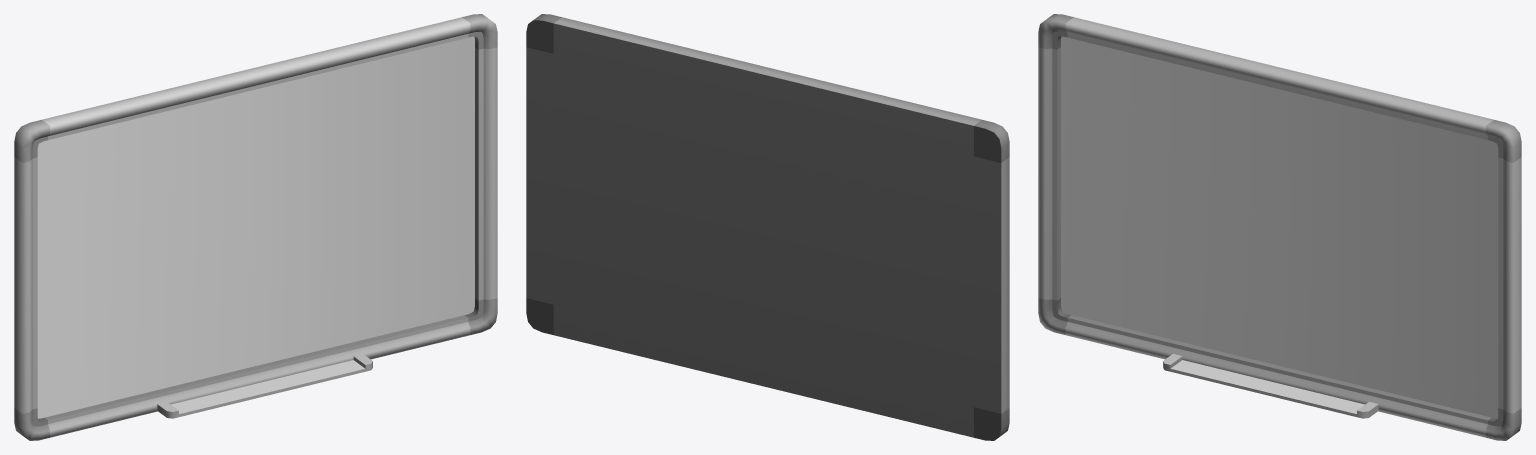
File: CR_sci_Board_001.FBX
The picture shows the model from 3 angles, left to right: view 1: azimuth 30°, elevation 25°; view 2: azimuth 150°, elevation 25°; view 3: azimuth 330°, elevation 25°; orthographic projection.
Visible parts, largest first — view 1: CR_sci_Board_001; view 2: CR_sci_Board_001; view 3: CR_sci_Board_001.
Boxes of the visible parts, x1=… form: CR_sci_Board_001: x1=14, y1=14, x2=497, y2=440; CR_sci_Board_001: x1=526, y1=14, x2=1009, y2=440; CR_sci_Board_001: x1=1038, y1=14, x2=1521, y2=440.
Size of the model in its own units: 125 by 78.2 by 9.29.
